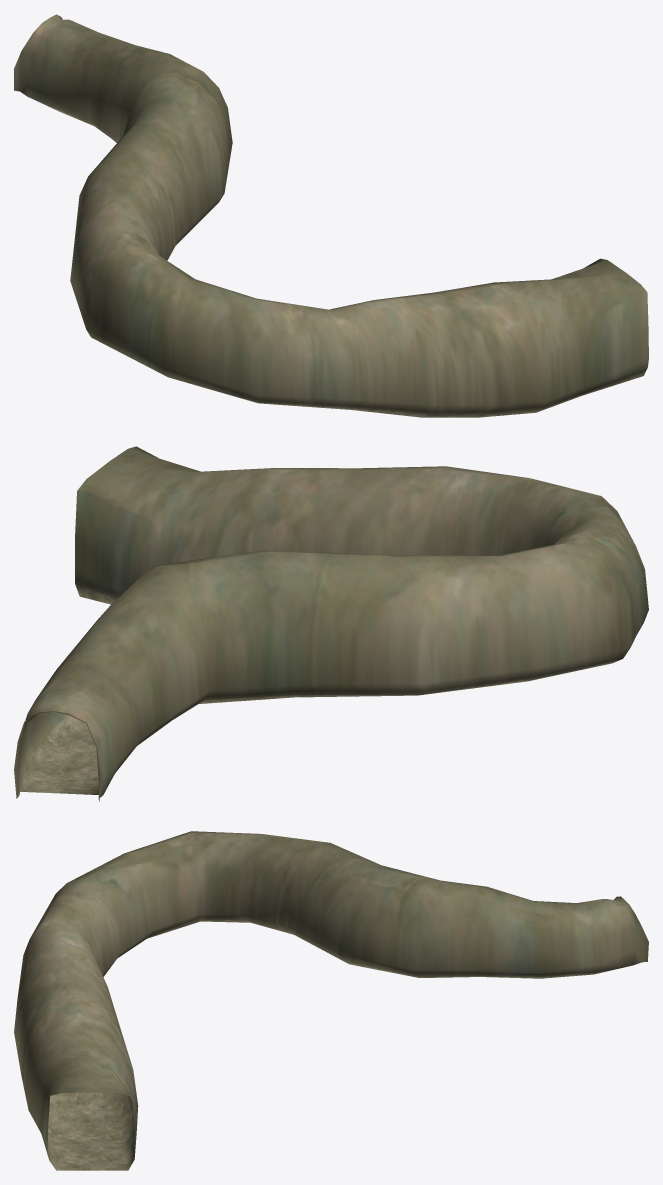
File: OVERHILL_A_01_OH_CAVE_2B.fbx
3 renders of one model, top to bottom at view 1: azimuth 30°, elevation 25°; view 2: azimuth 150°, elevation 25°; view 3: azimuth 270°, elevation 25°, orthographic. The views are drawn at different scales.
Visible parts, largest first — view 1: OVERHILL_A_01_OH_CAVE_2B; view 2: OVERHILL_A_01_OH_CAVE_2B; view 3: OVERHILL_A_01_OH_CAVE_2B.
Part boxes in pixels (x1,y1,x2,y2): OVERHILL_A_01_OH_CAVE_2B: (14, 14, 648, 417); OVERHILL_A_01_OH_CAVE_2B: (14, 446, 648, 801); OVERHILL_A_01_OH_CAVE_2B: (14, 831, 648, 1170).
Bounding box in the file's own units: 166874 × 72584 × 221956.
1 material, 1 textured.
